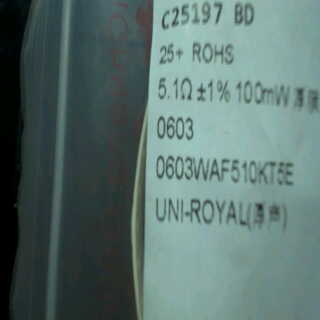5.1R: (152, 69, 195, 109)
